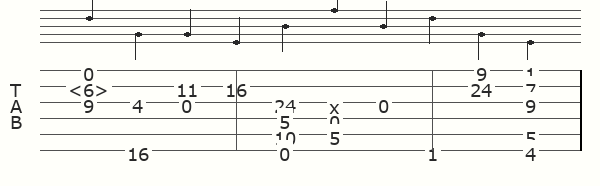0: (83, 62, 98, 79), (181, 94, 196, 111), (279, 142, 294, 159), (329, 110, 344, 127), (378, 94, 393, 111)
1: (427, 142, 442, 159), (525, 62, 540, 79)
10: (274, 126, 300, 143)
11: (176, 78, 202, 95)
16: (127, 142, 153, 159), (225, 78, 251, 95)
24: (274, 94, 300, 111), (470, 78, 496, 95)
4: (132, 94, 147, 111), (525, 142, 540, 159)
5: (279, 110, 294, 127), (329, 126, 344, 143), (525, 126, 540, 143)
7: (525, 78, 540, 95)
9: (83, 94, 98, 111), (476, 62, 491, 79), (525, 94, 540, 111)
harmonic: (68, 78, 113, 95)
x: (329, 95, 344, 109)
